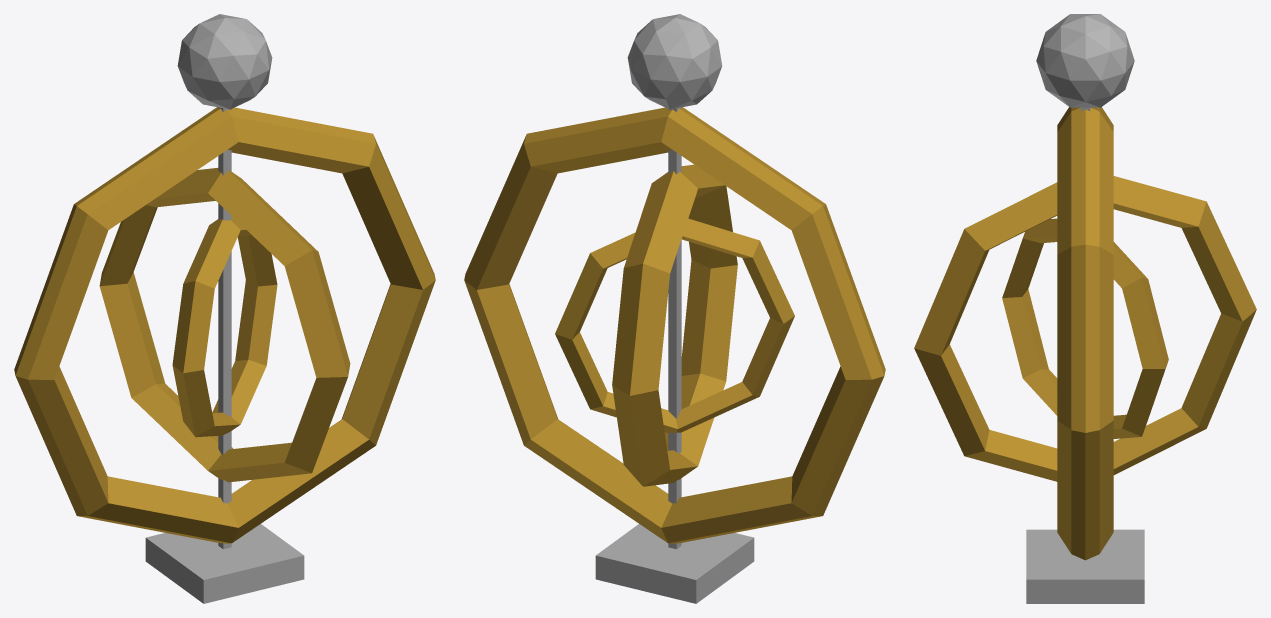
File: steampunk_apparatus.fbx
3 views of the same model, side by side, from view 1: azimuth 30°, elevation 25°; view 2: azimuth 150°, elevation 25°; view 3: azimuth 270°, elevation 25° (orthographic).
Visible parts, largest first — view 1: Torus, Torus.001, Icosphere, Torus.002; view 2: Torus, Torus.001, Icosphere, Torus.002; view 3: Torus.001, Torus, Icosphere, Torus.002.
Boxes of the visible parts, x1,y1,x2,y2 form: Torus: (14,107,435,543); Torus.001: (99,168,350,482); Icosphere: (145,14,304,603); Torus.002: (172,216,277,437); Torus: (464,107,885,543); Torus.001: (612,164,737,486); Icosphere: (595,14,754,603); Torus.002: (555,218,794,432); Torus.001: (914,176,1256,481); Torus: (1057,107,1113,560); Icosphere: (1026,14,1144,603); Torus.002: (1002,218,1168,438).
Bounding box in the file's own units: 1.25 × 1.58 × 0.8693.
